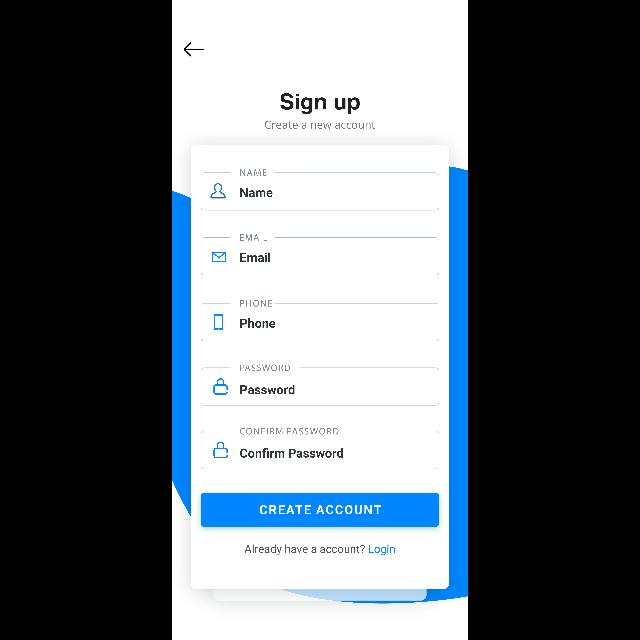icon: (184, 42, 204, 56), (214, 442, 228, 458), (214, 379, 228, 395), (210, 184, 226, 198), (212, 252, 226, 262)
image: (214, 314, 223, 330)
input: (200, 234, 440, 276), (200, 300, 440, 342), (200, 364, 440, 406), (201, 170, 439, 210), (201, 428, 439, 468)
text: (245, 544, 395, 556), (280, 94, 360, 115), (240, 448, 344, 458), (265, 121, 375, 129), (240, 428, 338, 434), (241, 386, 295, 394), (240, 318, 276, 328), (240, 188, 272, 198), (240, 365, 290, 371), (240, 252, 270, 262), (240, 300, 272, 306), (240, 170, 266, 177), (240, 235, 268, 241)
textbutton: (201, 493, 439, 527)
